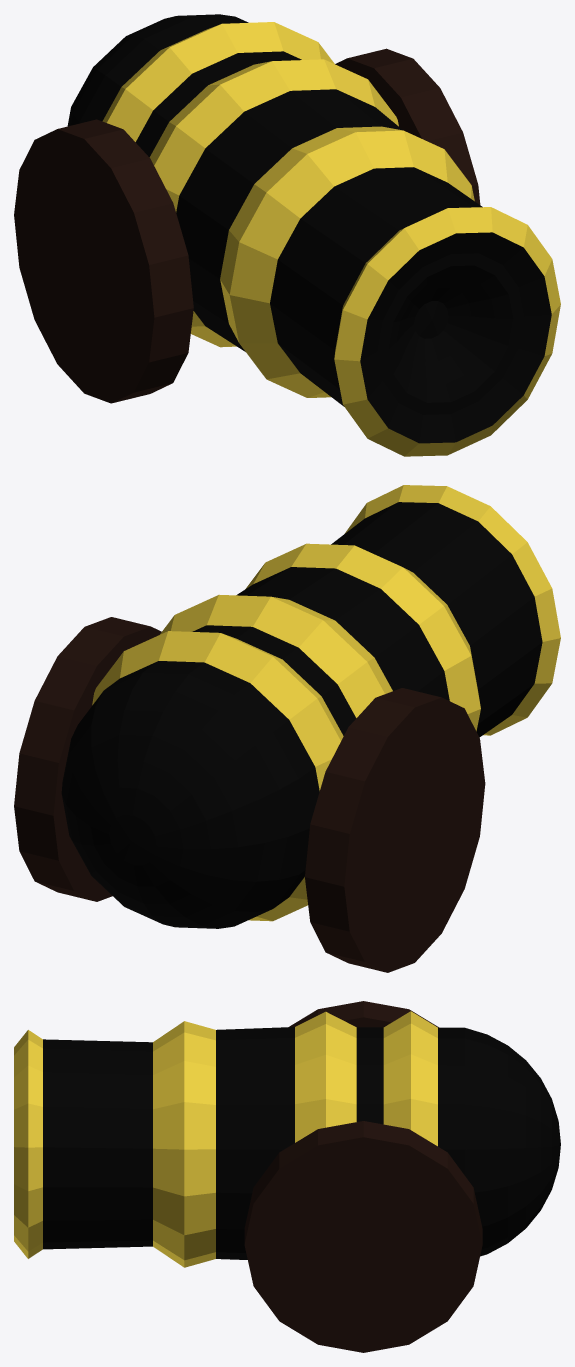
File: Cannon_Giant.fbx
The picture shows the model from 3 angles, top to bottom: view 1: azimuth 30°, elevation 25°; view 2: azimuth 150°, elevation 25°; view 3: azimuth 270°, elevation 25°; orthographic projection. The views are drawn at different scales.
Visible parts, largest first — view 1: Sphere, Cylinder.001, Cylinder; view 2: Sphere, Cylinder.001, Cylinder; view 3: Sphere, Cylinder, Cylinder.001.
Boxes of the visible parts, x1,y1,x2,y2 form: Sphere: (67,14,560,456); Cylinder.001: (14,119,193,403); Cylinder: (335,48,480,204); Sphere: (61,485,560,928); Cylinder.001: (305,688,485,972); Cylinder: (14,617,161,901); Sphere: (14,1011,560,1267); Cylinder: (244,1121,482,1352); Cylinder.001: (288,1001,438,1027).
Size of the model in its own units: 541 by 485 by 919.
